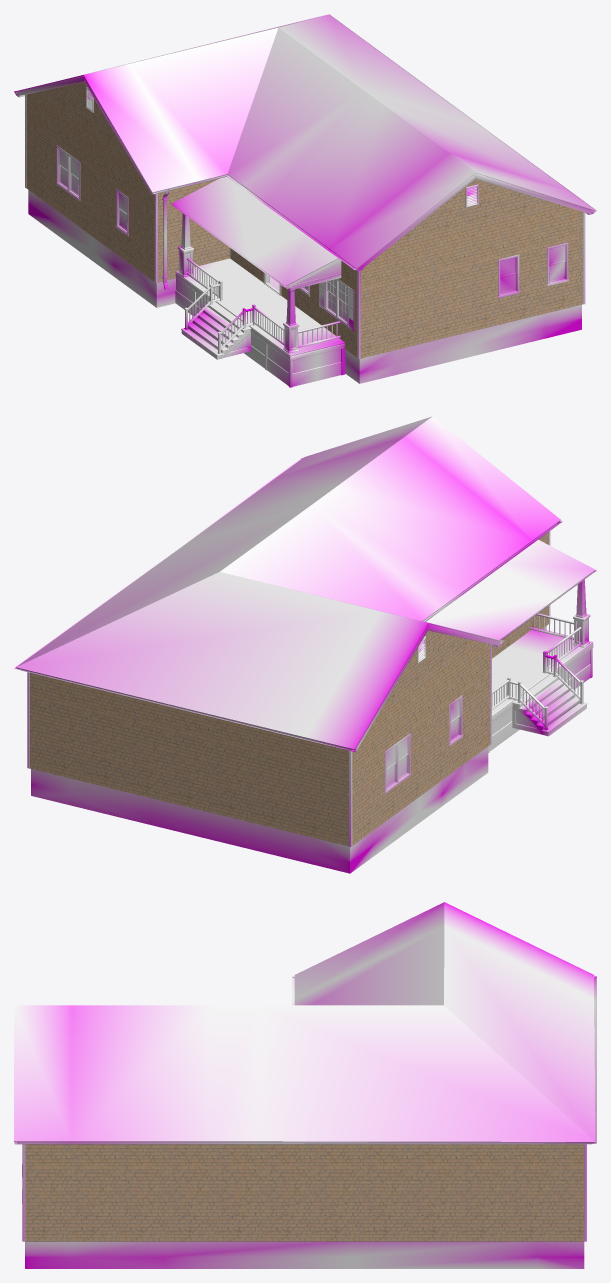
Rendered from SM_House_05.fbx.
3 views of the same model, one above another, from view 1: azimuth 30°, elevation 25°; view 2: azimuth 150°, elevation 25°; view 3: azimuth 270°, elevation 25° (orthographic). The views are drawn at different scales.
Parts seen in each view (by area): view 1: SM_House_05_LOD0; view 2: SM_House_05_LOD0; view 3: SM_House_05_LOD0.
Boxes of the visible parts, <box> form: SM_House_05_LOD0: <box>14,14,596,387</box>; SM_House_05_LOD0: <box>14,416,596,873</box>; SM_House_05_LOD0: <box>14,902,596,1268</box>.
Size of what is drawn, in the model's own units: 1217 by 679 by 1752.
20 materials, 1 textured.
